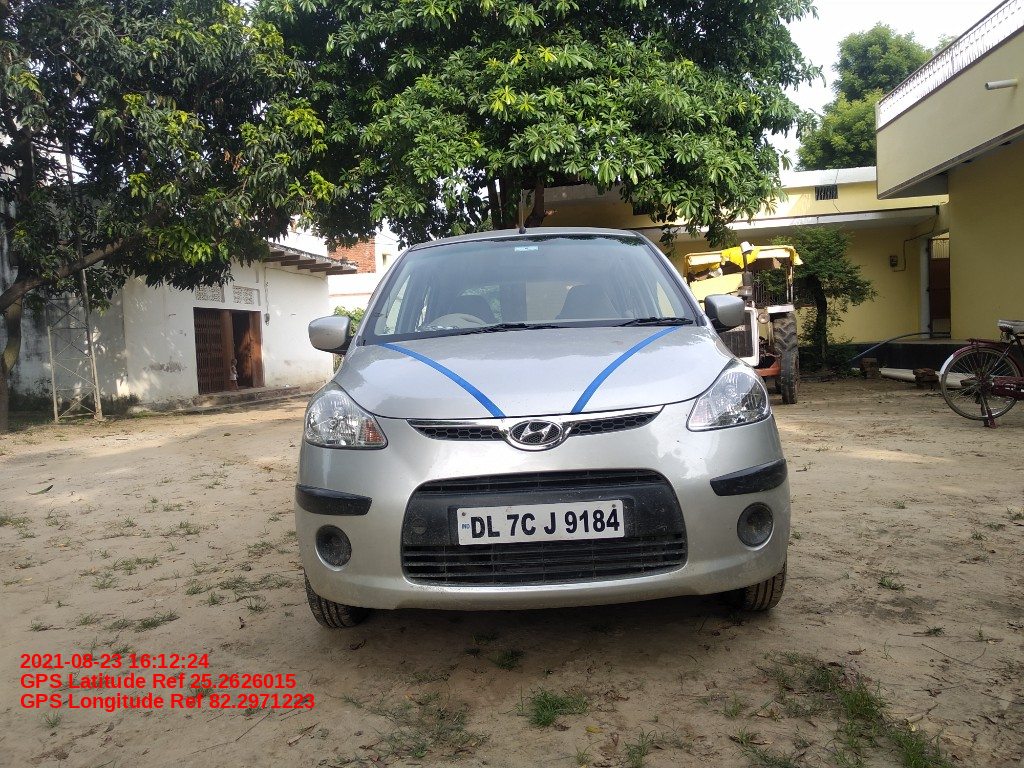Scratched: (670, 434, 684, 446), (726, 524, 734, 534), (697, 454, 706, 461), (681, 412, 691, 418)
